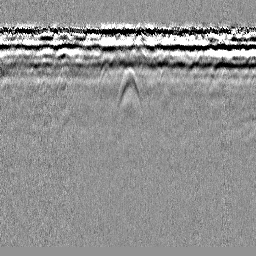cavity: (115, 62, 143, 112)
